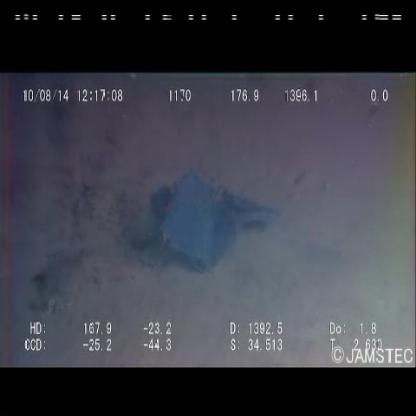Rác: (150, 169, 286, 275)
